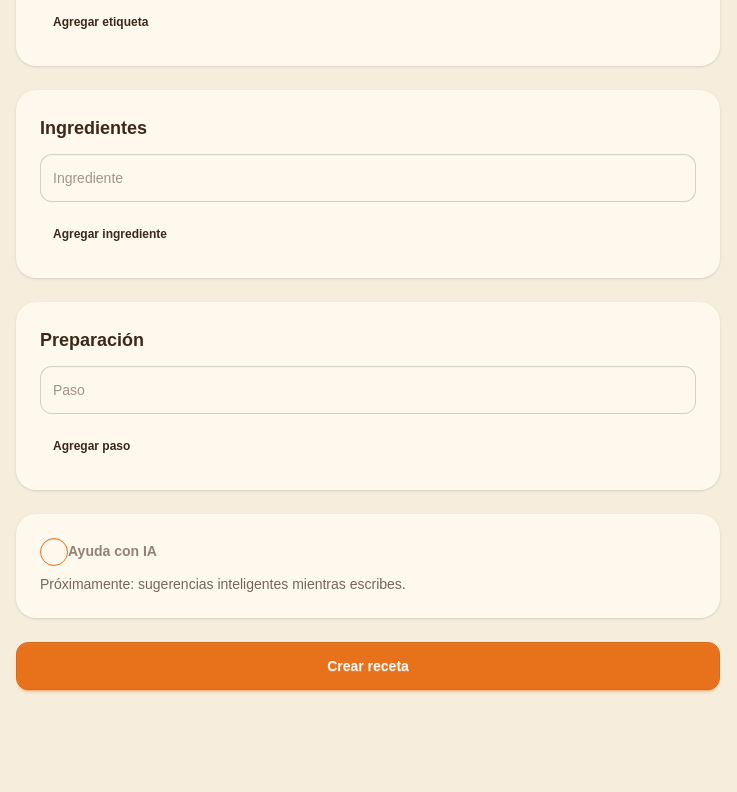
Test: CreateRecipeForm › shows the Spanish required-title error and aria-invalid when submitting empty
The width and height of the screenshot is (737, 792).
(page scrolled)
Click the button "Crear receta".
click(368, 666)  # box [16, 642, 720, 690]
(page scrolled)
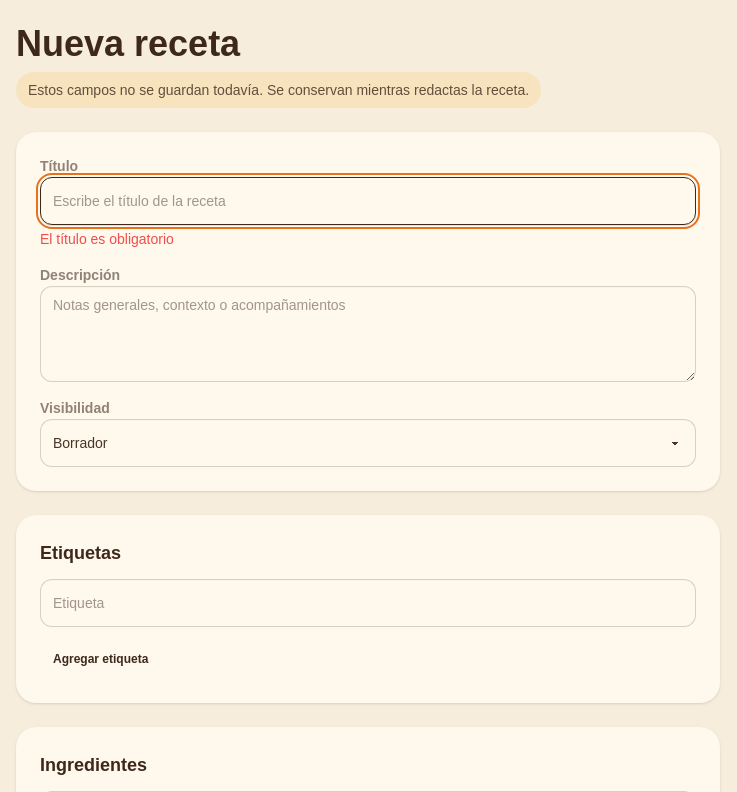
Now the message reads "El título es obligatorio", box [40, 231, 174, 247]
